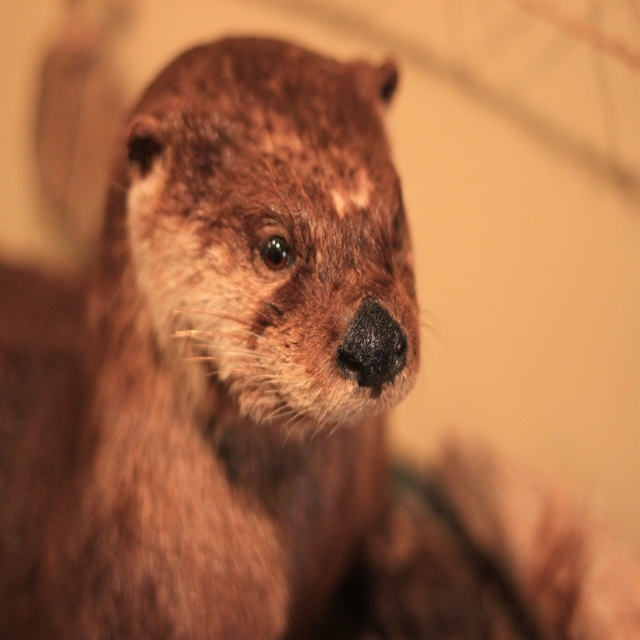Otter: (0, 34, 442, 639)
